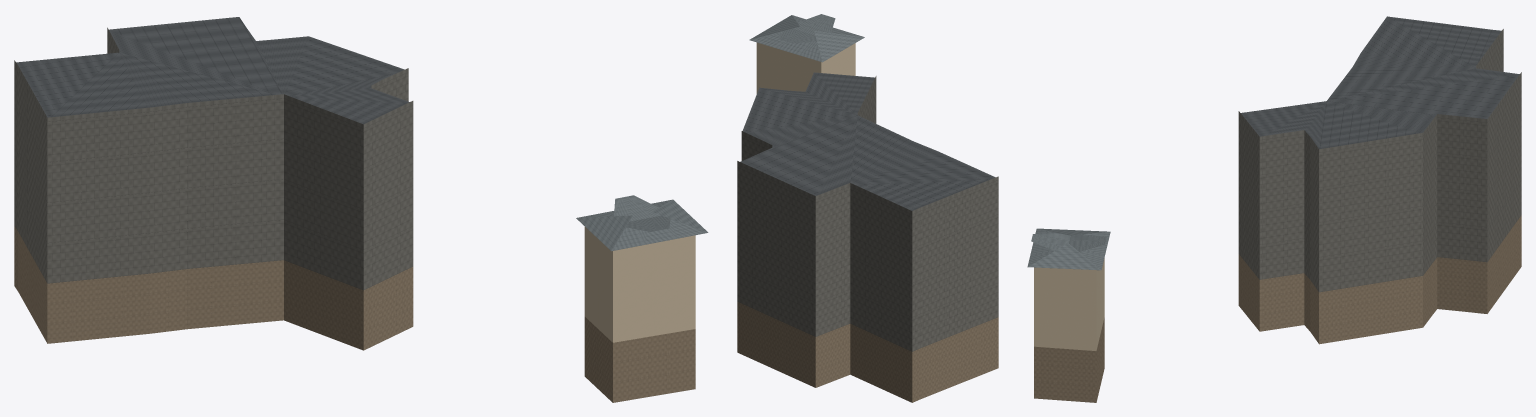
Rendered from bld_c-1_-1_539.gltf.
3 views of the same model, side by side, from view 1: azimuth 30°, elevation 25°; view 2: azimuth 150°, elevation 25°; view 3: azimuth 270°, elevation 25° (orthographic). The views are drawn at different scales.
Visible parts, largest first — view 1: bld_c-1_-1_539; view 2: bld_c-1_-1_539; view 3: bld_c-1_-1_539.
Boxes of the visible parts, bbox=[...] form: bld_c-1_-1_539: bbox=[14, 17, 708, 402]; bld_c-1_-1_539: bbox=[737, 14, 998, 402]; bld_c-1_-1_539: bbox=[1027, 16, 1521, 402].
Size of the model in its own units: 40.82 by 19.48 by 44.04.
Materials: 6 (6 with a texture image).
